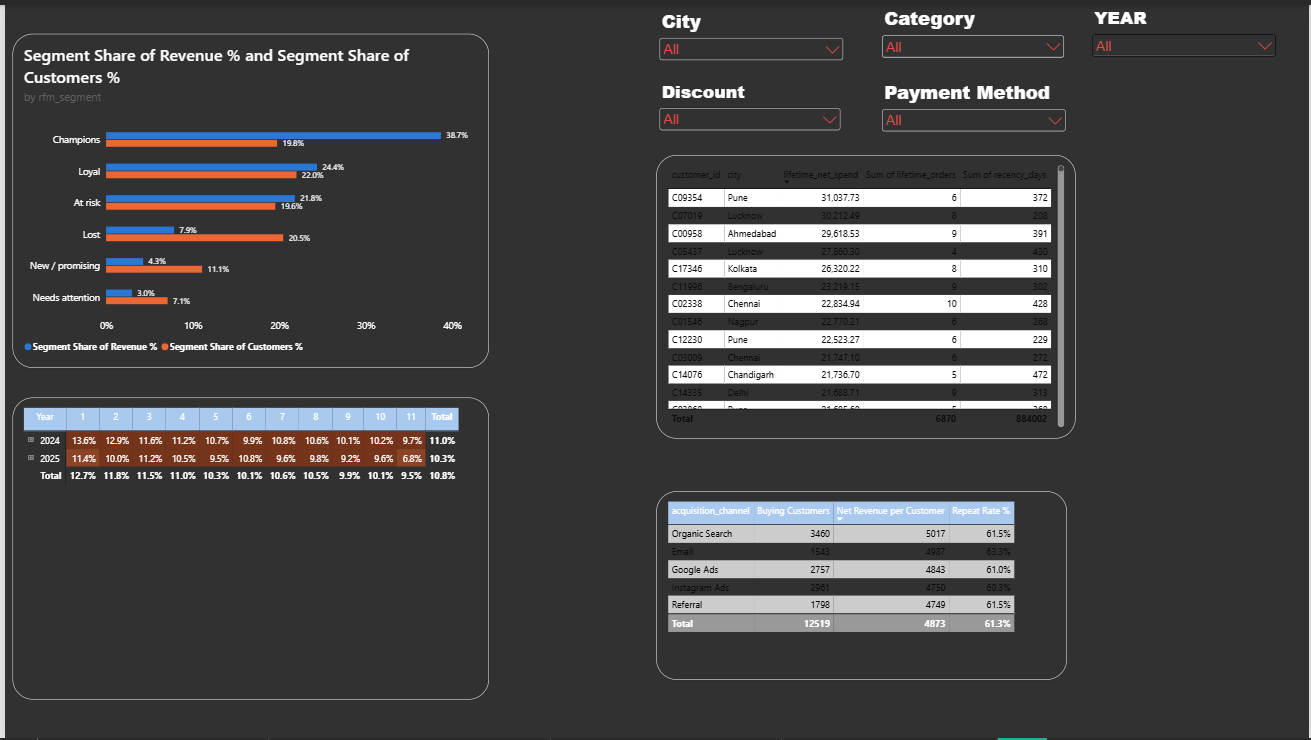

The page's visual inventory and layout, read from the dashboard file:
{"tool":"powerbi","page":{"name":"Who are our customers?","canvas":[1920,1080],"ordinal":3},"visuals":[{"type":"slicer","fields":{"Values":["fact_orders.discount_band"]},"box":[1317.3,384.9,529,86.4],"z":4},{"type":"clusteredBarChart","fields":{"Category":["dim_customers.rfm_segment"],"Y":["_Measures.Segment Share of Revenue %","_Measures.Segment Share of Customers %"]},"box":[10.3,0,701.9,444.6],"z":5},{"type":"pivotTable","fields":{"Columns":["cohort_retention.months_since_first_order"],"Rows":["cohort_retention.cohort_month.Variation.Date Hierarchy.Year","cohort_retention.cohort_month.Variation.Date Hierarchy.Quarter","cohort_retention.cohort_month.Variation.Date Hierarchy.Month","cohort_retention.cohort_month.Variation.Date Hierarchy.Day"],"Values":["_Measures.Retention %"]},"box":[10.3,524.9,486,445],"z":6},{"type":"tableEx","fields":{"Values":["dim_customers.customer_id","dim_customers.city","dim_customers.lifetime_net_spend","Sum(dim_customers.lifetime_orders)","Sum(dim_customers.recency_days)"]},"box":[660.7,524.9,596.9,444.6],"z":7},{"type":"tableEx","fields":{"Values":["dim_customers.acquisition_channel","_Measures.Buying Customers","_Measures.Net Revenue per Customer","_Measures.Repeat Rate %"]},"box":[1294.7,574.3,551.6,444.6],"z":8},{"type":"slicer","fields":{"Values":["dim_customers.city"]},"box":[1006.5,0,279.9,86.4],"z":9},{"type":"slicer","title":"Category","fields":{"Values":["dim_products.category"]},"box":[1286.5,0,277.9,86.4],"z":10},{"type":"slicer","title":"YEAR","fields":{"Values":["dim_date.year"]},"box":[1595.2,0,279.9,94.7],"z":11},{"type":"slicer","fields":{"Values":["fact_orders.payment_method"]},"box":[1484.1,117.3,280.5,81.4],"z":12}]}

Visuals, with their boxes in screenshot pixels (x1, y1, x2, y2), scaled from the page's 1920x1080 canvas onto the 1311x740 screenshot:
slicer - fact_orders.discount_band: {"left": 899, "top": 264, "right": 1261, "bottom": 323}
clusteredBarChart - dim_customers.rfm_segment x _Measures.Segment Share of Revenue %: {"left": 7, "top": 0, "right": 486, "bottom": 305}
pivotTable - cohort_retention.months_since_first_order x cohort_retention.cohort_month.Variation.Date Hierarchy.Year: {"left": 7, "top": 360, "right": 339, "bottom": 665}
tableEx - dim_customers.customer_id x dim_customers.city: {"left": 451, "top": 360, "right": 859, "bottom": 664}
tableEx - dim_customers.acquisition_channel x _Measures.Buying Customers: {"left": 884, "top": 394, "right": 1261, "bottom": 698}
slicer - dim_customers.city: {"left": 687, "top": 0, "right": 878, "bottom": 59}
"Category" slicer: {"left": 878, "top": 0, "right": 1068, "bottom": 59}
"YEAR" slicer: {"left": 1089, "top": 0, "right": 1280, "bottom": 65}
slicer - fact_orders.payment_method: {"left": 1013, "top": 80, "right": 1205, "bottom": 136}
